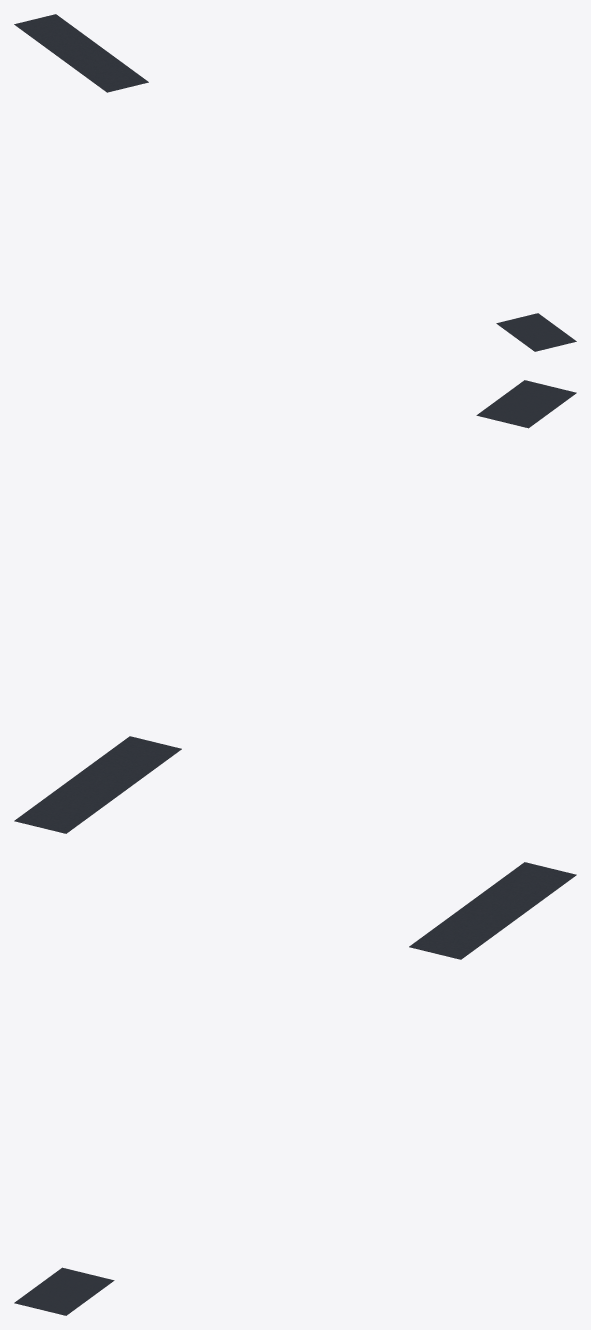
Rendered from Rug.glb.
3 views of the same model, one above another, from view 1: azimuth 30°, elevation 25°; view 2: azimuth 150°, elevation 25°; view 3: azimuth 330°, elevation 25° (orthographic). The views are drawn at different scales.
Visible parts, largest first — view 1: Rug; view 2: Rug; view 3: Rug.
Boxes of the visible parts, left/top/right/bottom form: Rug: left=14, top=14, right=576, bottom=351; Rug: left=14, top=380, right=576, bottom=833; Rug: left=14, top=862, right=576, bottom=1315.
Size of the model in its own units: 13.19 by 0.02 by 109.
1 material, 1 textured.
